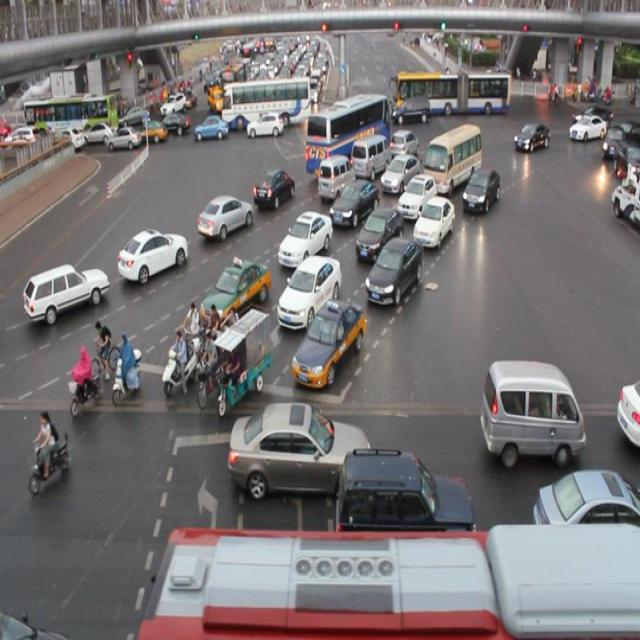car: (228, 402, 371, 500), (337, 446, 474, 534), (534, 468, 640, 534), (290, 302, 366, 389), (198, 256, 270, 333), (24, 257, 109, 321), (276, 251, 342, 331), (361, 232, 423, 308), (117, 223, 187, 280), (276, 212, 332, 268), (348, 208, 399, 266), (197, 191, 253, 239), (327, 177, 379, 225), (412, 193, 455, 249), (612, 375, 640, 453), (395, 173, 436, 217), (254, 166, 297, 207), (461, 166, 497, 212), (380, 149, 420, 189), (511, 120, 548, 154), (390, 126, 418, 161)
truck: (479, 358, 585, 468), (424, 124, 481, 188), (351, 133, 392, 178), (315, 155, 354, 201)
van: (140, 525, 640, 640), (306, 91, 392, 178)
